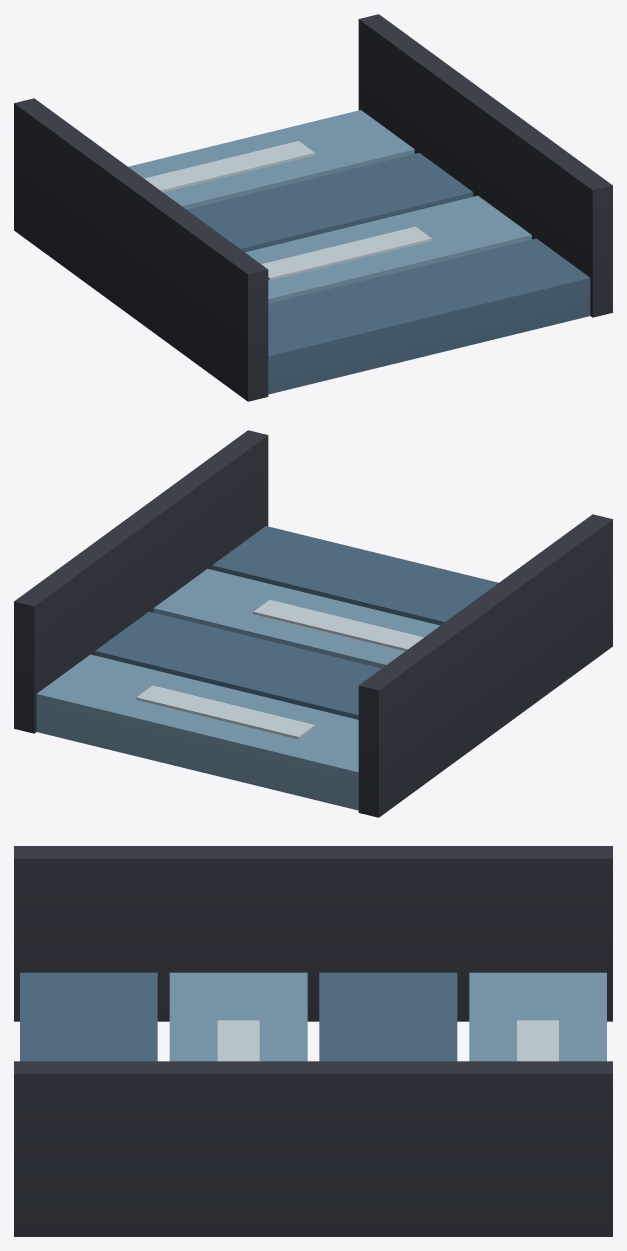
File: rime_bridge.glb
The picture shows the model from 3 angles, top to bottom: view 1: azimuth 30°, elevation 25°; view 2: azimuth 150°, elevation 25°; view 3: azimuth 270°, elevation 25°; orthographic projection. The views are drawn at different scales.
Visible parts, largest first — view 1: rime_bridge; view 2: rime_bridge; view 3: rime_bridge.
Boxes of the visible parts, x1,y1,x2,y2 form: rime_bridge: (14, 14, 612, 401); rime_bridge: (14, 430, 612, 817); rime_bridge: (14, 846, 612, 1236).
Size of the model in its own units: 1.8 by 0.6 by 2.
